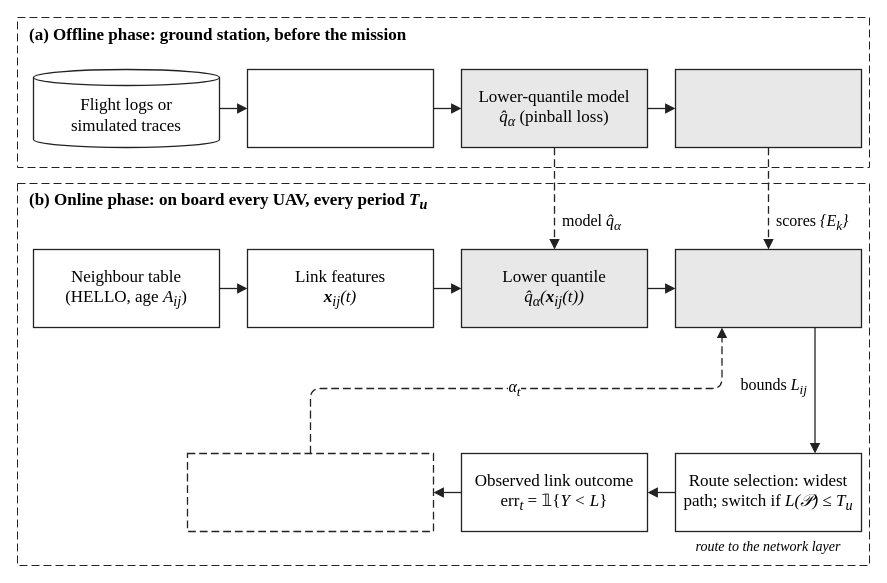
Image size: 887x583. Some labels were removed from this diagram. Each missing label, with the centre of its shape:
"ACI update (optional) α t+1 = α t + γ (α − err t )" belongs at point (310, 492).
"Calibrated bound L ij = max{ q̂ α − Q̂ 1−α t , 0}" belongs at point (768, 288).
"Conformity scores E k = q̂ α ( x k ) − y k" belongs at point (768, 108).
"Link samples ( x k , y k ) (training and calibration sets)" belongs at point (340, 108).
